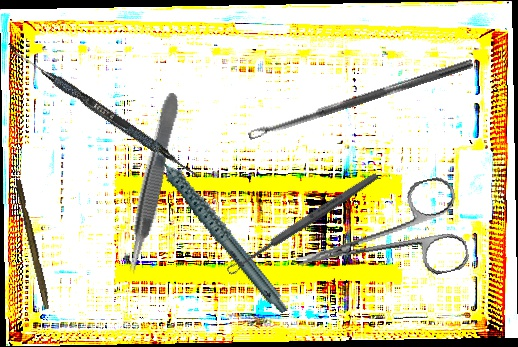Handpiece: (148, 118, 289, 334)
Iris Scissors: (285, 174, 472, 305)
Scalpel Handle: (12, 179, 54, 310)
Spatula Surgical: (2, 42, 204, 181)
Surgical Spoon: (247, 57, 474, 141), (225, 170, 380, 277)
Tissue Forceps: (118, 90, 187, 277)
